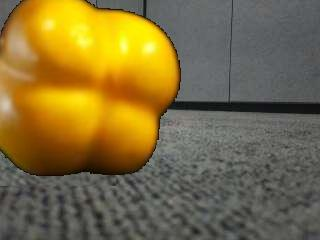Capsicum: (0, 0, 184, 180)
